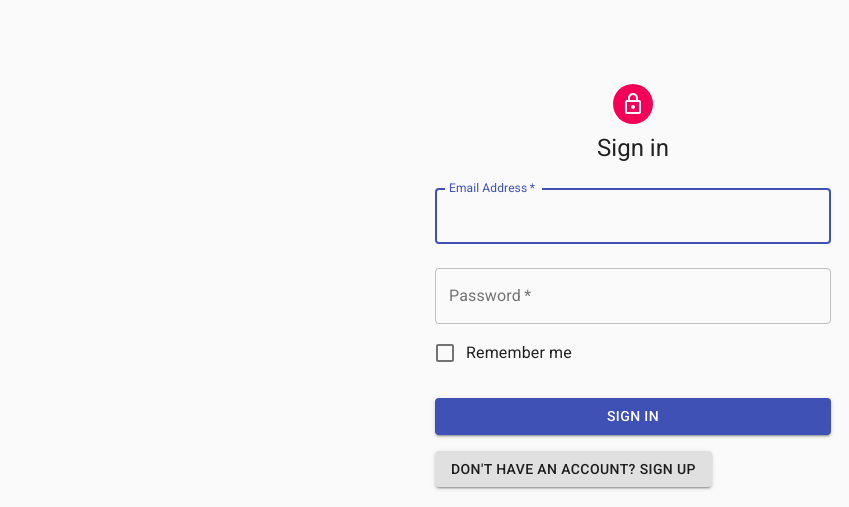
Test: Should go away from /sign-in when its a successful login
Type "test@test.com" into the field with id "email" at (633, 216), box x1=435 y1=188 x2=831 y2=244
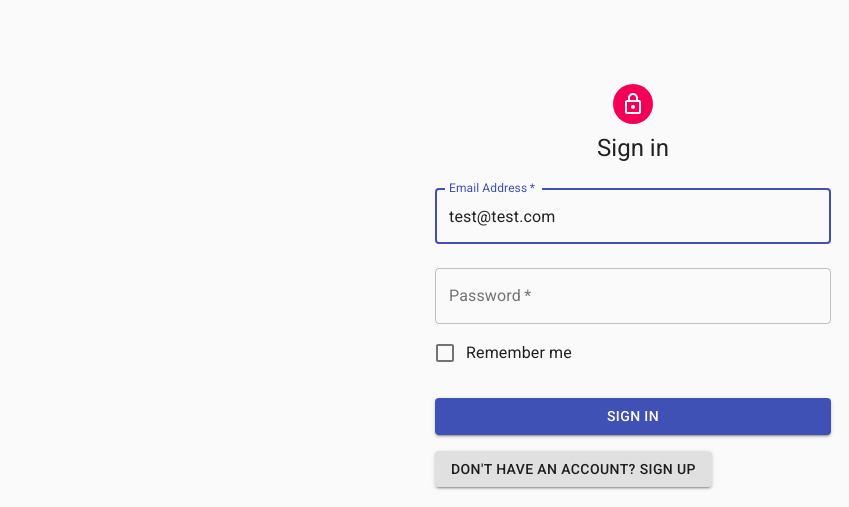
Type "123" into the password field labelled "Password *" at (633, 296), box x1=435 y1=268 x2=831 y2=324
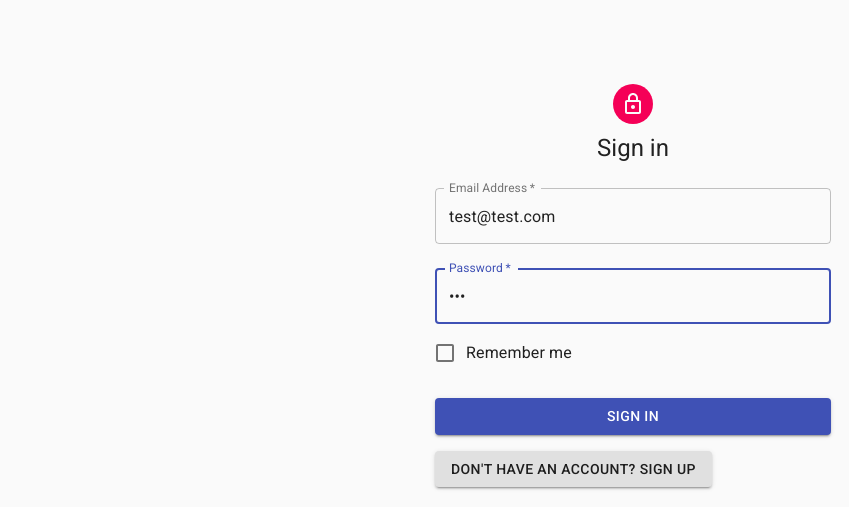
Click the submit button at (633, 416), box x1=435 y1=398 x2=831 y2=434
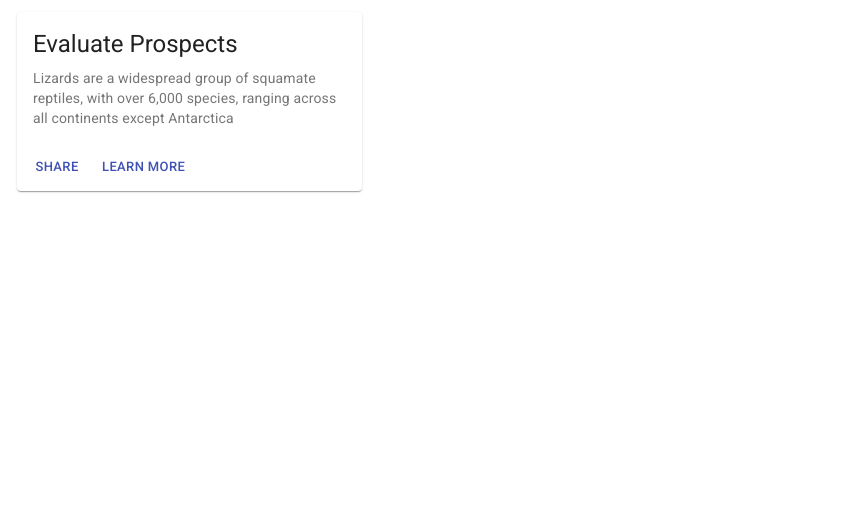
Result: the heading "Sign in" is gone
